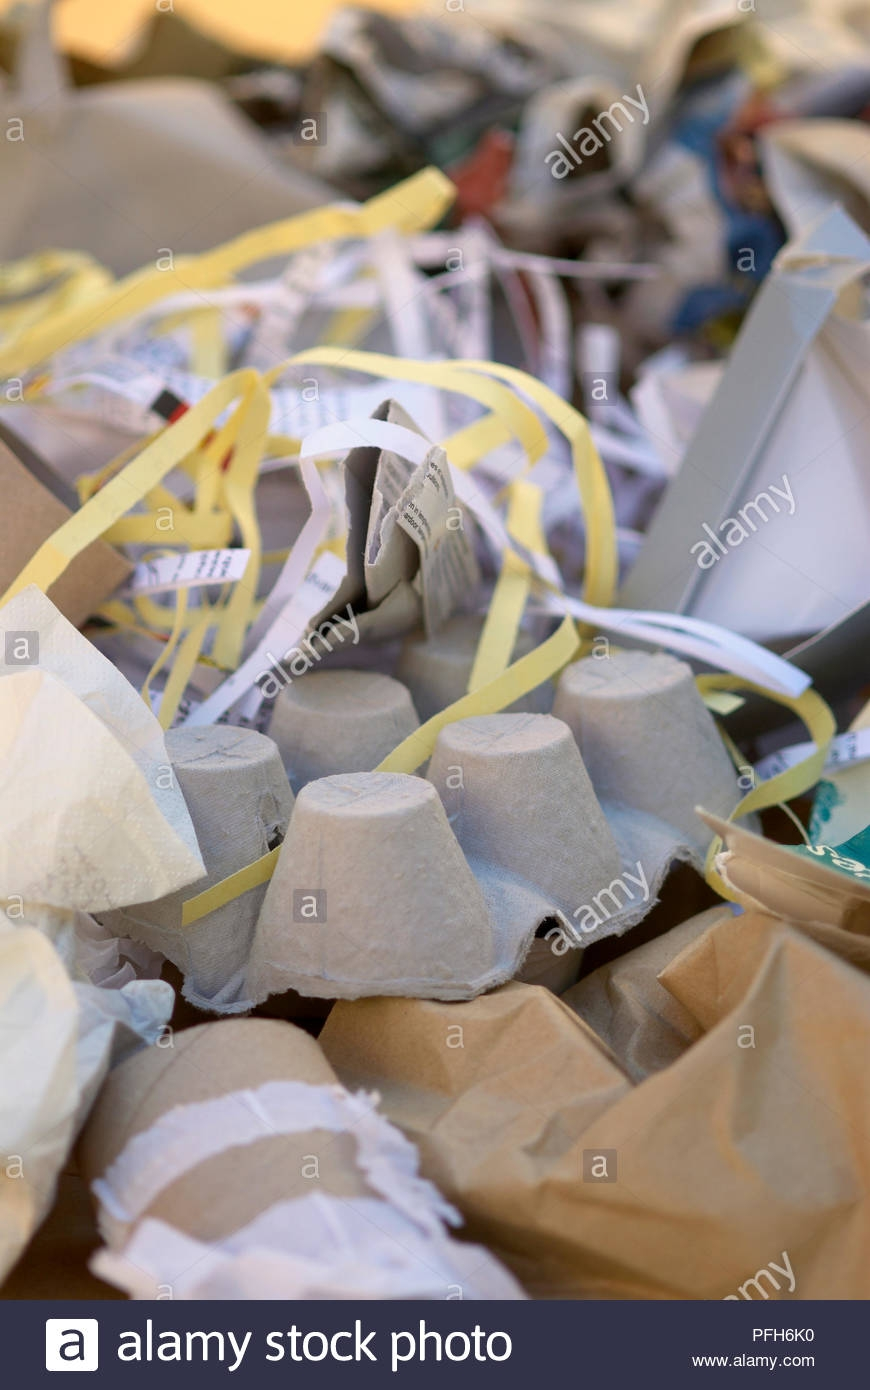paper: (119, 582, 789, 1029), (331, 869, 870, 1307), (1, 525, 209, 1230), (90, 1008, 531, 1312), (163, 353, 497, 749)
